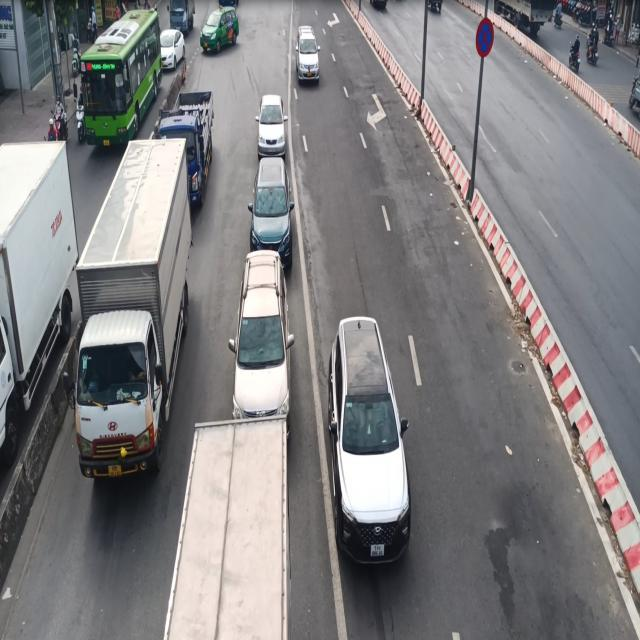bus: (73, 7, 162, 149)
car: (325, 315, 411, 566), (254, 93, 288, 157), (294, 25, 320, 83)
truck: (71, 137, 192, 480)
